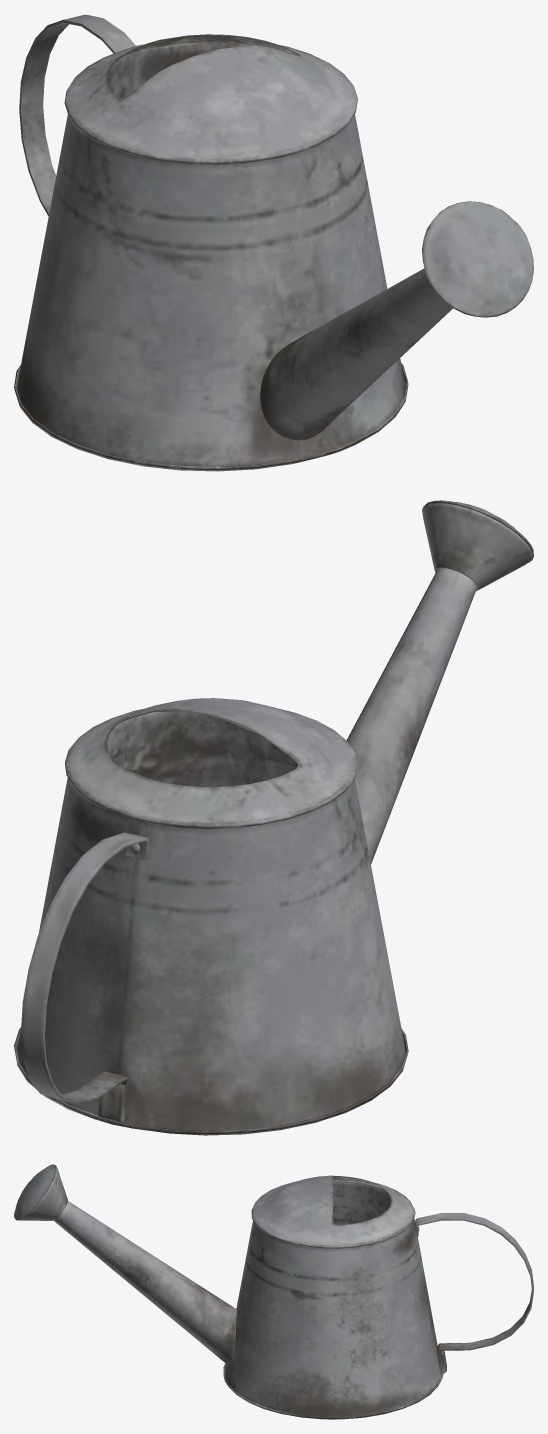
Rendered from giesskanne.glb.
3 renders of one model, top to bottom at view 1: azimuth 30°, elevation 25°; view 2: azimuth 150°, elevation 25°; view 3: azimuth 270°, elevation 25°, orthographic. The views are drawn at different scales.
Parts seen in each view (by area): view 1: watering_can_metal_01; view 2: watering_can_metal_01; view 3: watering_can_metal_01.
Boxes of the visible parts, box(x1,y1,x2,y2) form: watering_can_metal_01: box(14, 14, 533, 471); watering_can_metal_01: box(14, 500, 533, 1135); watering_can_metal_01: box(14, 1164, 533, 1419).
Size of the model in its own units: 0.1909 by 0.1965 by 0.4522.
1 material, 1 textured.
